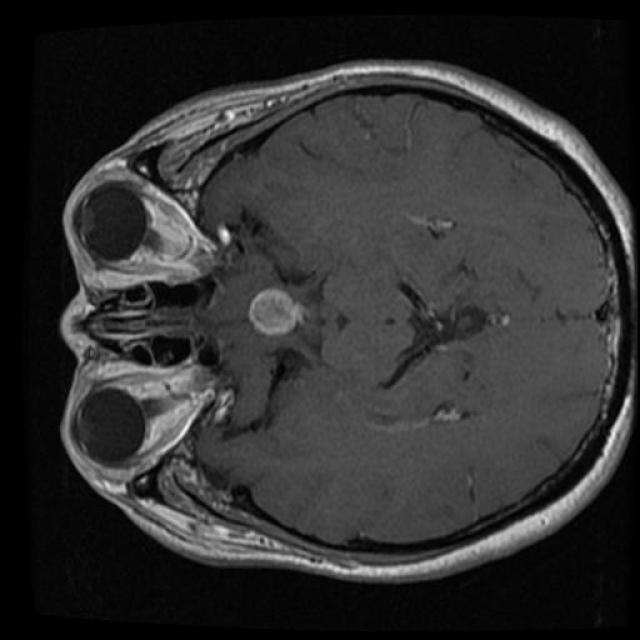Pituitary: (249, 288, 303, 336)
